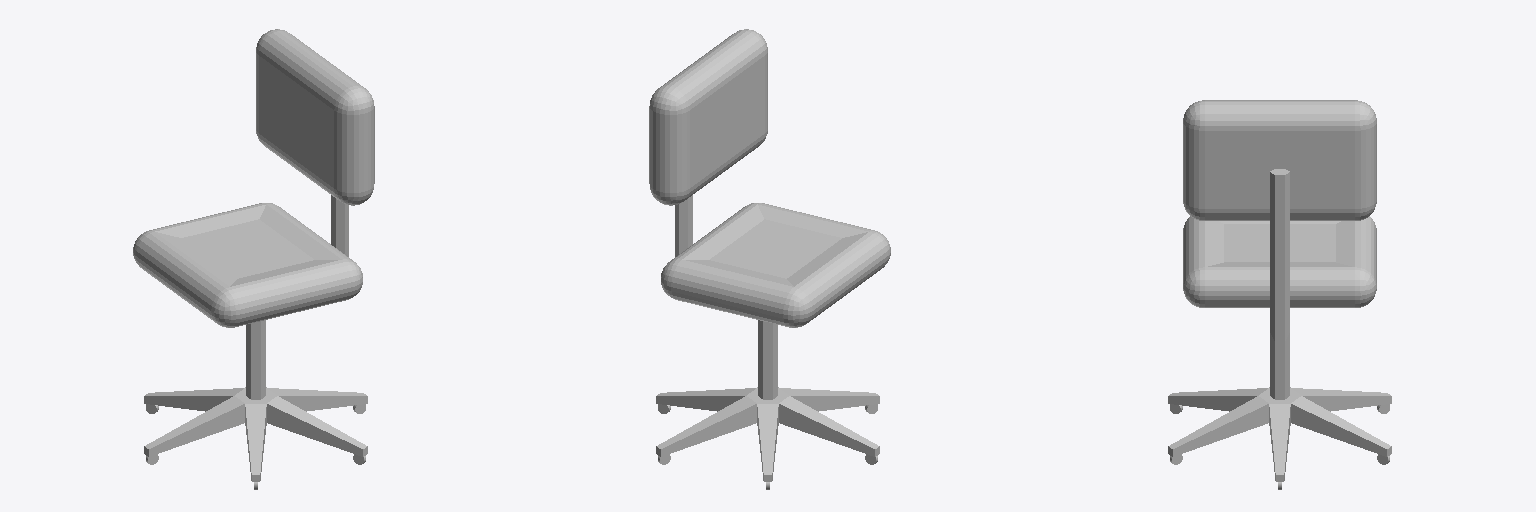
Rendered from Chair2.obj.
The picture shows the model from 3 angles: view 1: azimuth 30°, elevation 25°; view 2: azimuth 150°, elevation 25°; view 3: azimuth 270°, elevation 25°; orthographic projection.
Visible parts, largest first — view 1: Pillows, Support; view 2: Pillows, Support; view 3: Pillows, Support.
Part boxes in pixels (x1,y1,x2,y2): Pillows: (133, 29, 374, 327); Support: (144, 195, 367, 481); Pillows: (649, 29, 890, 327); Support: (656, 195, 879, 481); Pillows: (1183, 100, 1376, 307); Support: (1168, 169, 1391, 481).
Bounding box in the file's own units: 0.5866 × 0.935 × 0.518.